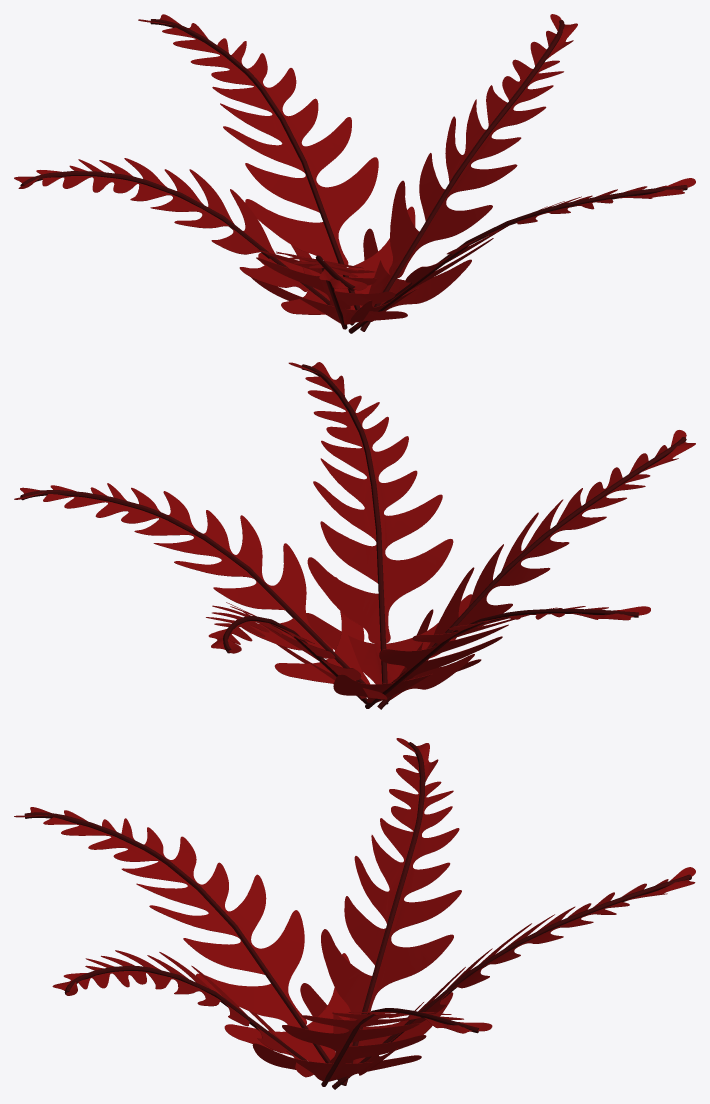
Rendered from blutfarn-bush.fbx.
3 views of the same model, one above another, from view 1: azimuth 30°, elevation 25°; view 2: azimuth 150°, elevation 25°; view 3: azimuth 270°, elevation 25° (orthographic). The views are drawn at different scales.
Visible parts, largest first — view 1: BF_a_0_5, BF_a_0, BF_a_0_4, BF_a_0_3, BF_a_0_2; view 2: BF_a_0_2, BF_a_0, BF_a_0_3, BF_a_0_4, BF_a_0_5; view 3: BF_a_0_3, BF_a_0_4, BF_a_0, BF_a_0_5, BF_a_0_2.
Part boxes in pixels (x1=…): BF_a_0_5: x1=138, y1=14, x2=415, y2=310; BF_a_0: x1=360, y1=14, x2=577, y2=331; BF_a_0_4: x1=14, y1=158, x2=354, y2=325; BF_a_0_3: x1=251, y1=250, x2=407, y2=329; BF_a_0_2: x1=348, y1=178, x2=695, y2=333; BF_a_0_2: x1=288, y1=362, x2=472, y2=704; BF_a_0: x1=14, y1=483, x2=369, y2=684; BF_a_0_3: x1=377, y1=430, x2=695, y2=709; BF_a_0_4: x1=333, y1=606, x2=650, y2=708; BF_a_0_5: x1=206, y1=602, x2=387, y2=703; BF_a_0_3: x1=14, y1=807, x2=350, y2=1080; BF_a_0_4: x1=300, y1=738, x2=461, y2=1085; BF_a_0: x1=252, y1=1008, x2=492, y2=1086; BF_a_0_5: x1=332, y1=867, x2=695, y2=1089; BF_a_0_2: x1=52, y1=950, x2=314, y2=1077.
Bounding box in the file's own units: 236 × 73.76 × 232.
